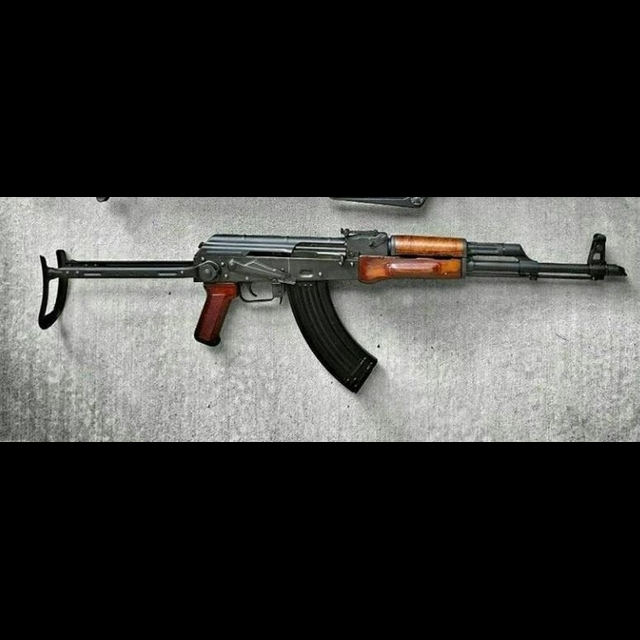AK47: (196, 222, 630, 395)
